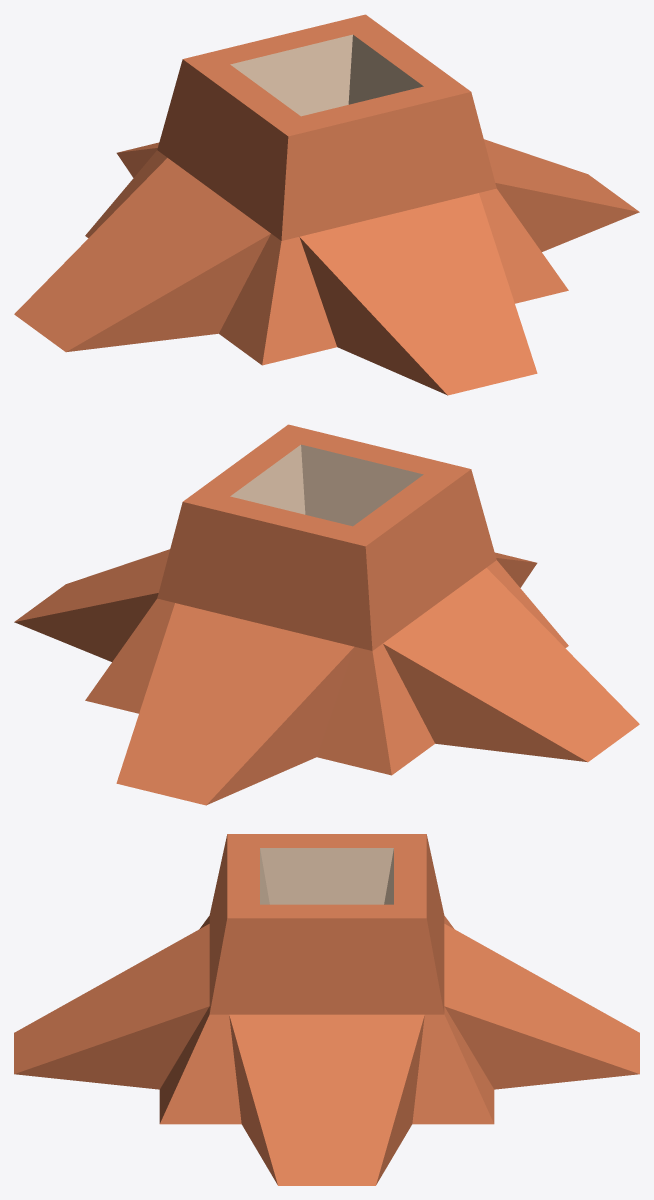
The model's file is stump_squareDetailedWide.dae.
3 renders of one model, top to bottom at view 1: azimuth 30°, elevation 25°; view 2: azimuth 150°, elevation 25°; view 3: azimuth 270°, elevation 25°, orthographic. The views are drawn at different scales.
Parts seen in each view (by area): view 1: stump_squareDetailedWide; view 2: stump_squareDetailedWide; view 3: stump_squareDetailedWide.
Part boxes in pixels (x1,y1,x2,y2): stump_squareDetailedWide: [14, 14, 639, 395]; stump_squareDetailedWide: [14, 424, 639, 805]; stump_squareDetailedWide: [14, 834, 639, 1185].
Bounding box in the file's own units: 0.64 × 0.2 × 0.64.
